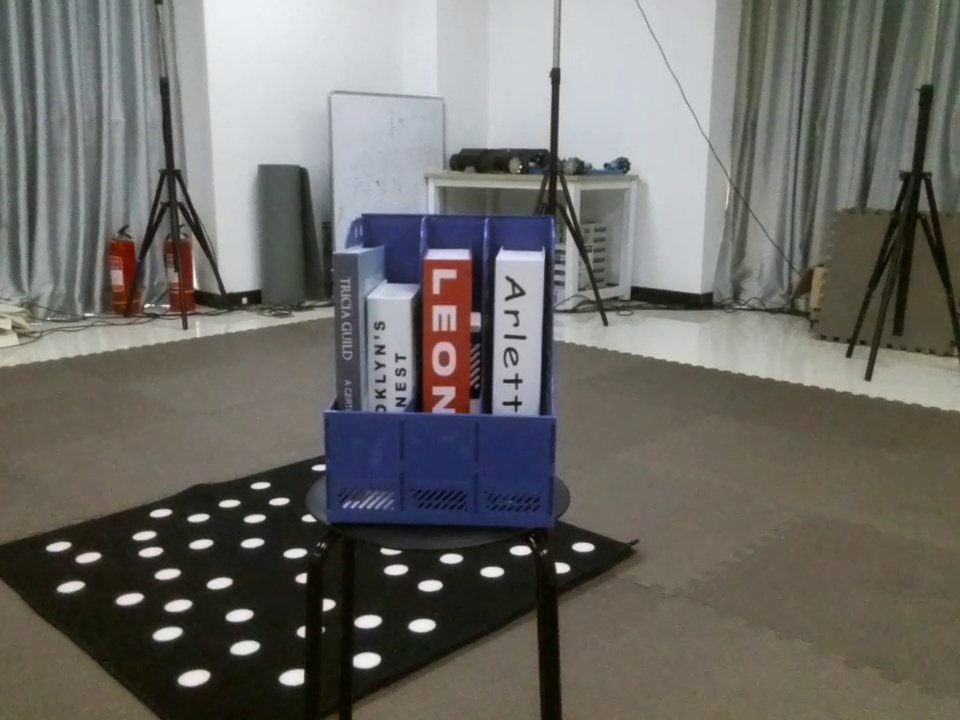files: (315, 207, 568, 532)
